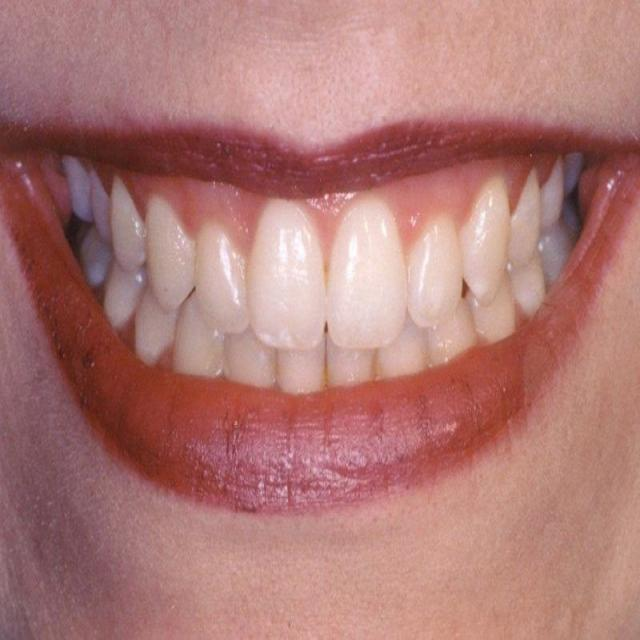tooth: (325, 203, 407, 341), (250, 203, 324, 342), (400, 196, 469, 330), (190, 218, 251, 334), (457, 170, 507, 296), (146, 188, 195, 307), (504, 160, 540, 265), (108, 175, 147, 271), (505, 243, 552, 321), (219, 332, 277, 390), (539, 149, 577, 232), (175, 313, 222, 376), (429, 310, 475, 370), (535, 217, 571, 291), (270, 348, 328, 390), (60, 147, 94, 216), (105, 259, 135, 337), (137, 304, 177, 362), (90, 164, 117, 243), (481, 283, 514, 346), (76, 223, 106, 292), (322, 346, 376, 384), (375, 338, 424, 378), (558, 151, 587, 204)
